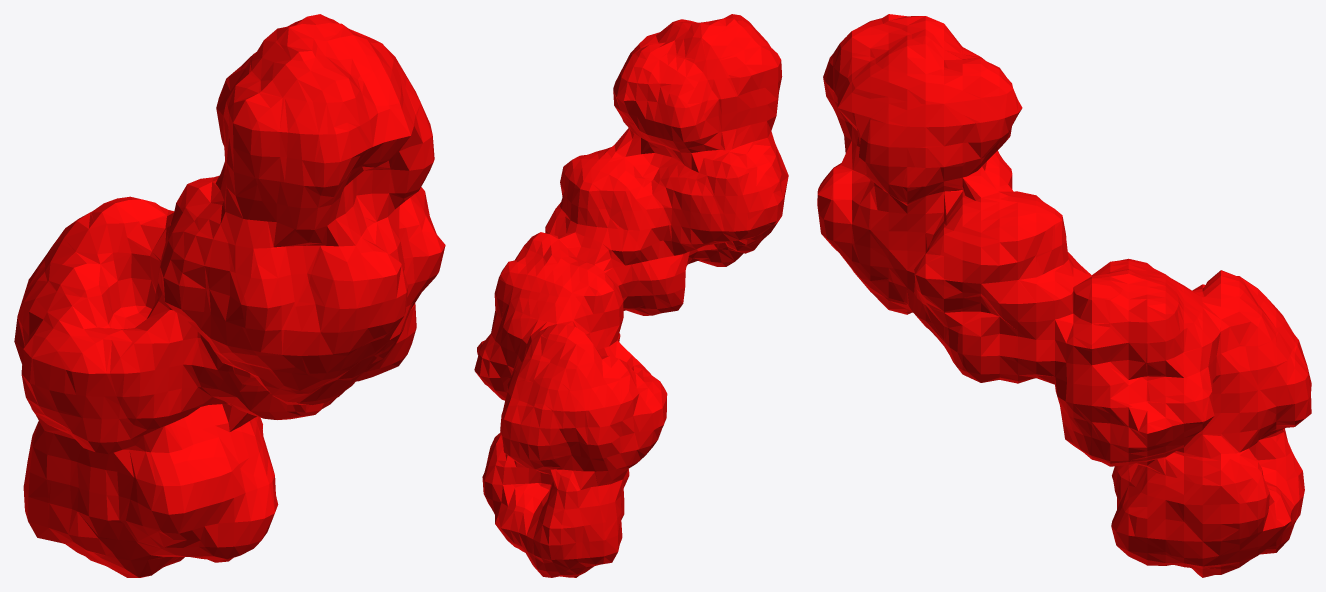
The model's file is rsmD_coarse.dae.
3 views of the same model, side by side, from view 1: azimuth 30°, elevation 25°; view 2: azimuth 150°, elevation 25°; view 3: azimuth 270°, elevation 25° (orthographic). The views are drawn at different scales.
Visible parts, largest first — view 1: rsmD; view 2: rsmD; view 3: rsmD.
Boxes of the visible parts, x1=… form: rsmD: x1=14, y1=14, x2=445, y2=577; rsmD: x1=474, y1=14, x2=788, y2=577; rsmD: x1=817, y1=14, x2=1311, y2=577.
Size of the model in its own units: 67.3 by 138 by 114.
